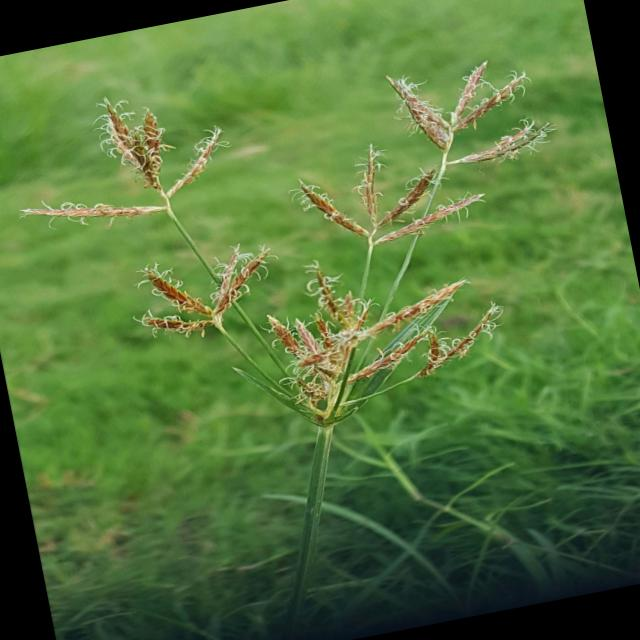cyperus: (0, 7, 604, 476)
